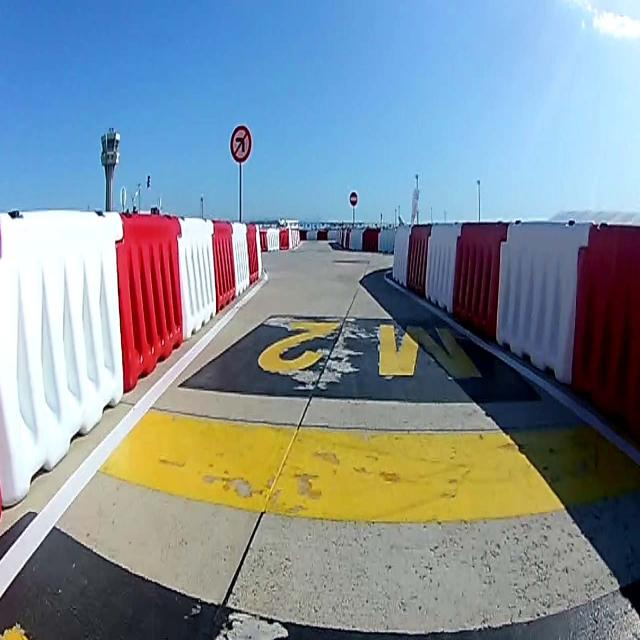girisyok: (349, 190, 357, 206)
soladonulmez: (230, 125, 252, 163)
